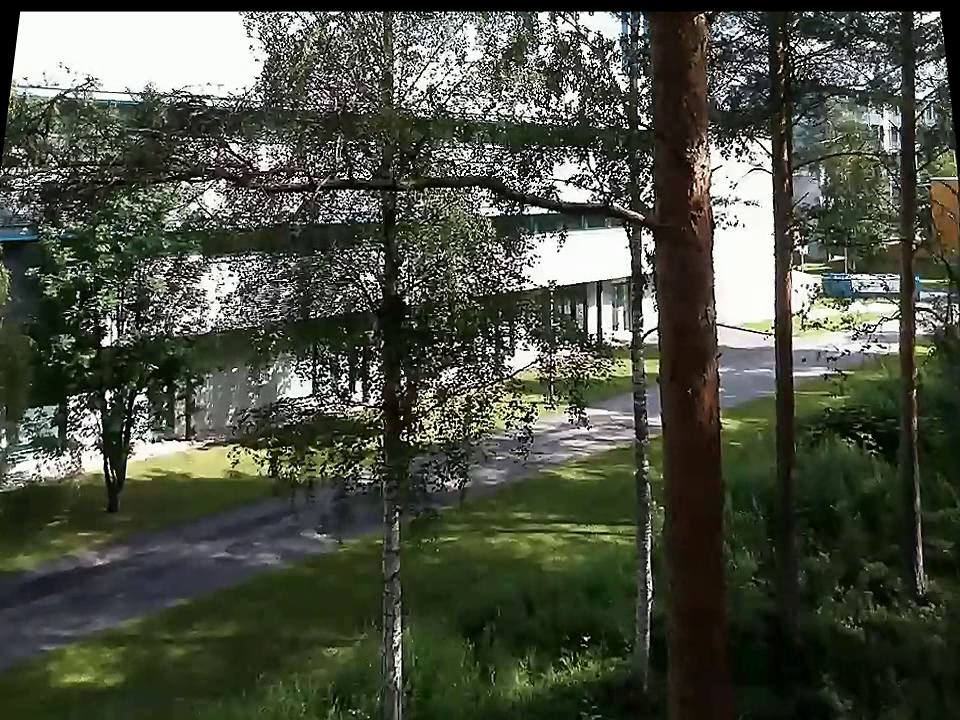branch: (312, 165, 651, 236), (795, 143, 877, 176)
trunk: (642, 20, 735, 714), (759, 25, 818, 644), (889, 29, 939, 608), (626, 244, 661, 687), (372, 476, 410, 718), (98, 419, 131, 516)
